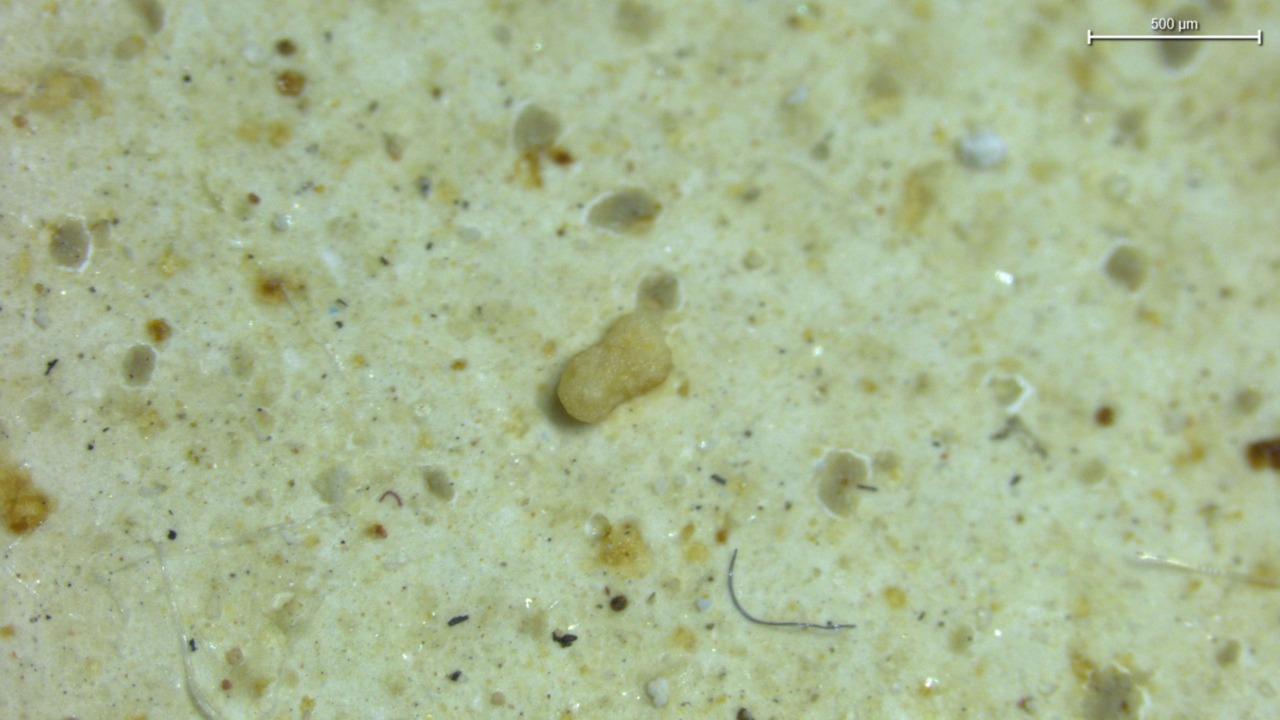microplastic_fragment: (557, 307, 671, 423)
